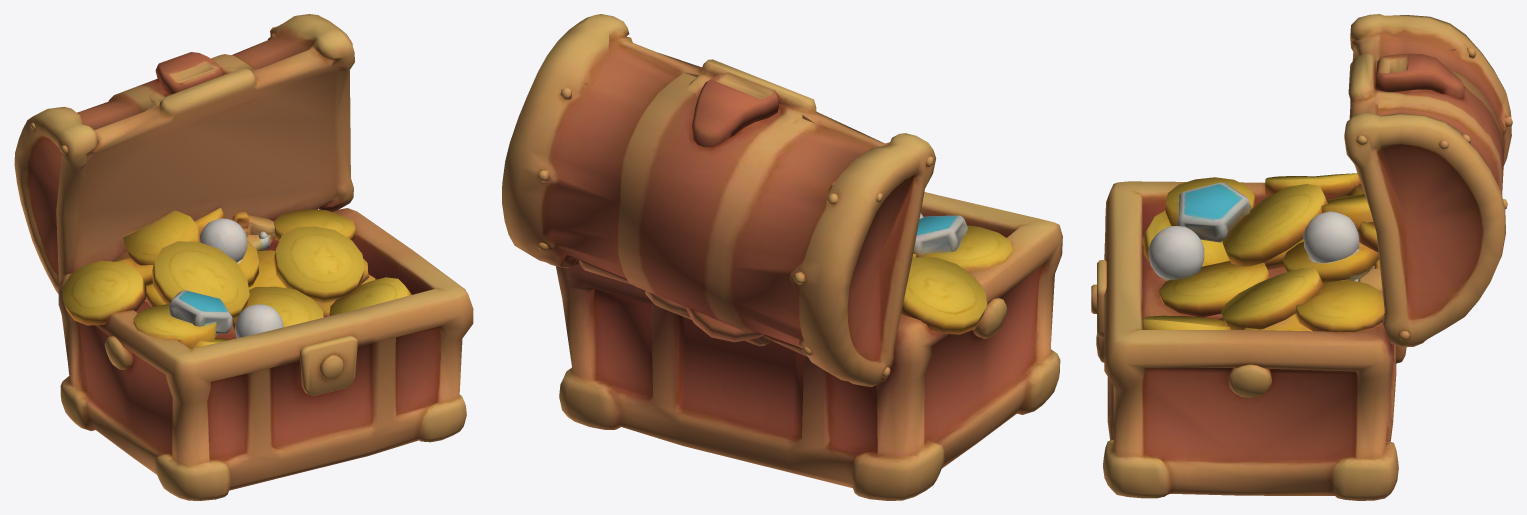
Rendered from open-chest.glb.
The picture shows the model from 3 angles, left to right: view 1: azimuth 30°, elevation 25°; view 2: azimuth 150°, elevation 25°; view 3: azimuth 270°, elevation 25°; orthographic projection. The views are drawn at different scales.
Visible parts, largest first — view 1: tripo_node_3d37b6f2-bbd2-4e07-9786-1e1b98d3e5af; view 2: tripo_node_3d37b6f2-bbd2-4e07-9786-1e1b98d3e5af; view 3: tripo_node_3d37b6f2-bbd2-4e07-9786-1e1b98d3e5af.
Part boxes in pixels (x1,y1,x2,y2): tripo_node_3d37b6f2-bbd2-4e07-9786-1e1b98d3e5af: (14,14,473,500); tripo_node_3d37b6f2-bbd2-4e07-9786-1e1b98d3e5af: (502,14,1062,500); tripo_node_3d37b6f2-bbd2-4e07-9786-1e1b98d3e5af: (1091,14,1512,500).
Size of the model in its own units: 0.998 by 0.9786 by 0.998.
Materials: 1 (1 with a texture image).
